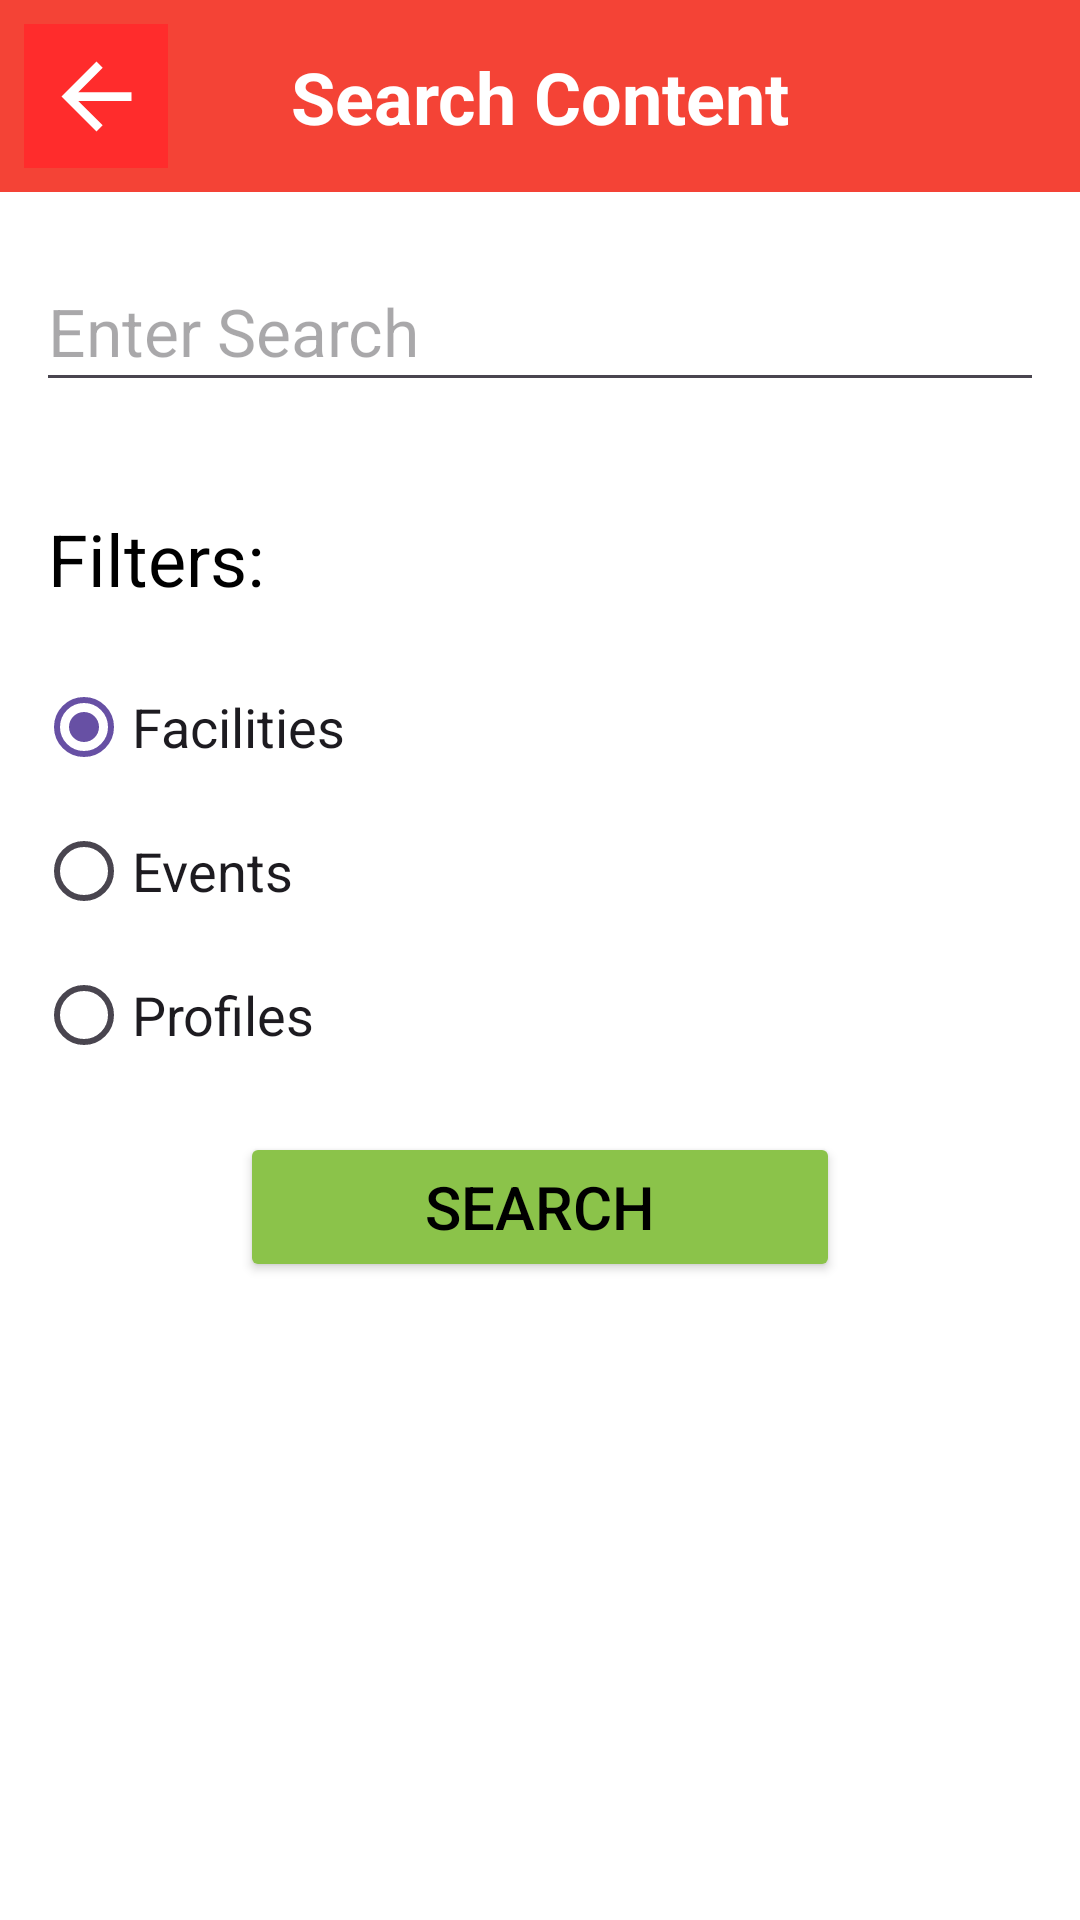

Icon click points for this 1080px×1920px phone screenshot, format point (x, y):
Go Back: point (96, 96)
